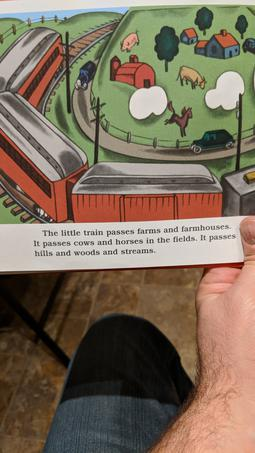text block: (34, 217, 240, 263)
